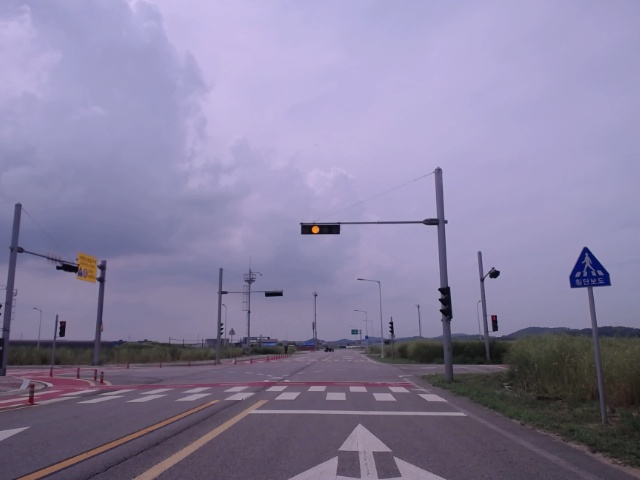orange_4: (299, 223, 341, 236)
